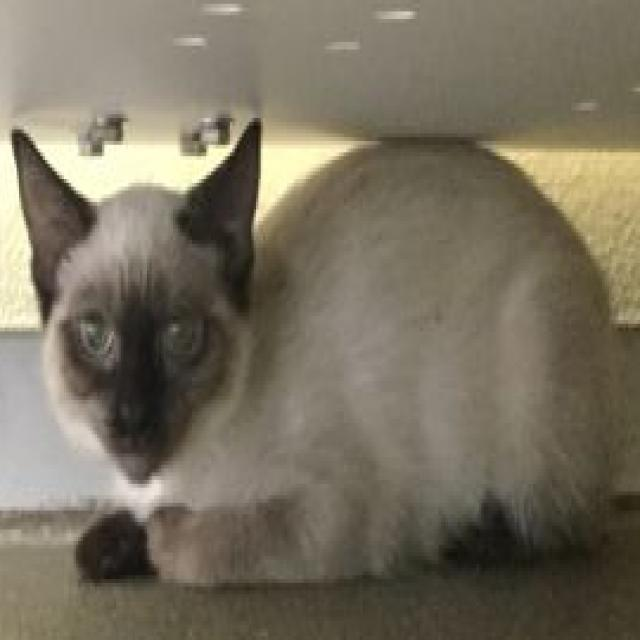Siamese: (8, 113, 618, 594)
